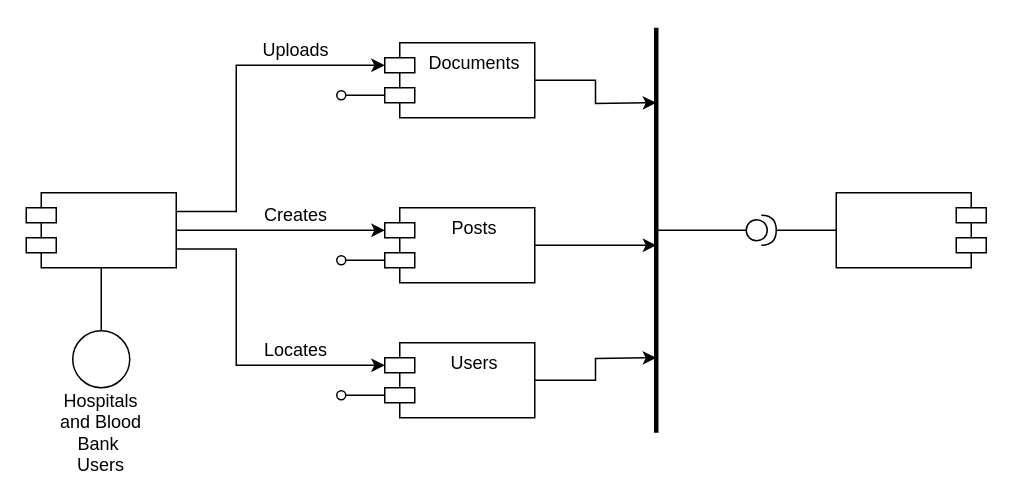
The diagram is 1013 pixels wide and 503 high, and some of its shapes have lost their labels. Each missing label, with the centre of its shape:
Database: (910,229)
Rapid Reach: (100,229)
